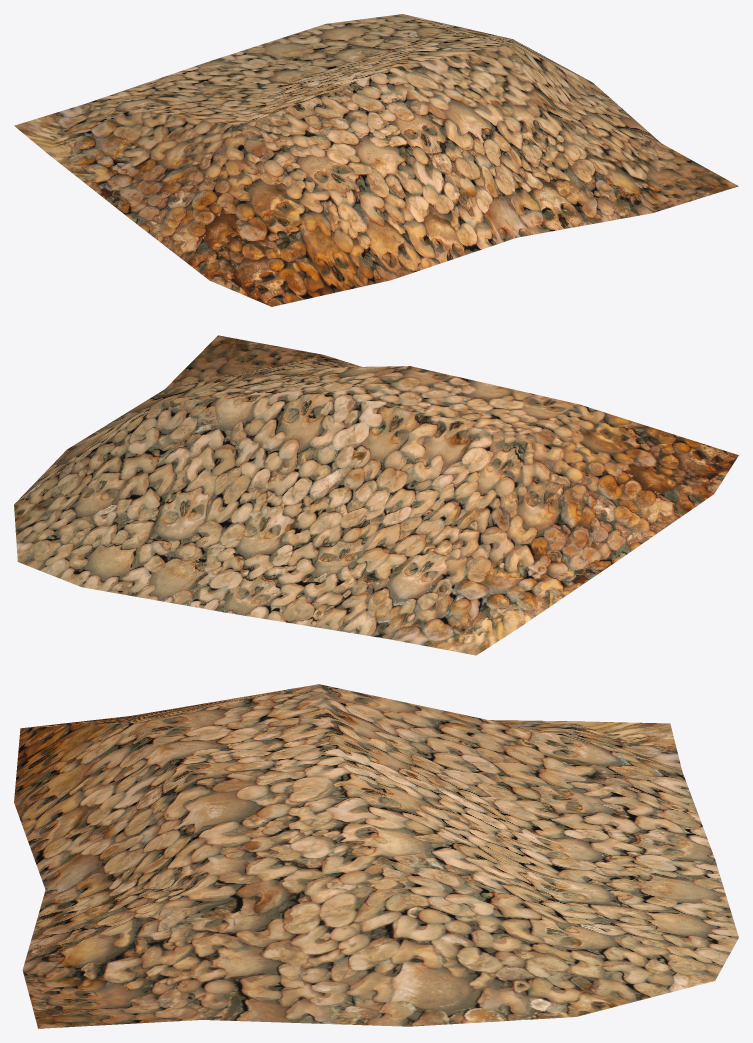
The model's file is BoneHeap.fbx.
3 views of the same model, one above another, from view 1: azimuth 30°, elevation 25°; view 2: azimuth 150°, elevation 25°; view 3: azimuth 270°, elevation 25° (orthographic). The views are drawn at different scales.
Parts seen in each view (by area): view 1: Plane; view 2: Plane; view 3: Plane.
Boxes of the visible parts, x1,y1,x2,y2 form: Plane: (14, 14, 738, 306); Plane: (14, 335, 738, 655); Plane: (14, 684, 738, 1028).
Size of the model in its own units: 3.26 by 0.555 by 3.19.
